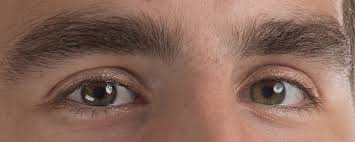pupil: (81, 81, 117, 106), (250, 80, 284, 104)
